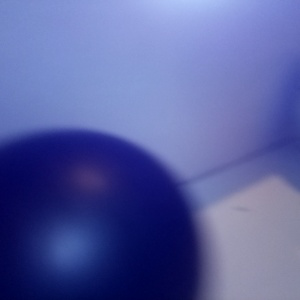dead_ball: (1, 130, 202, 300)
